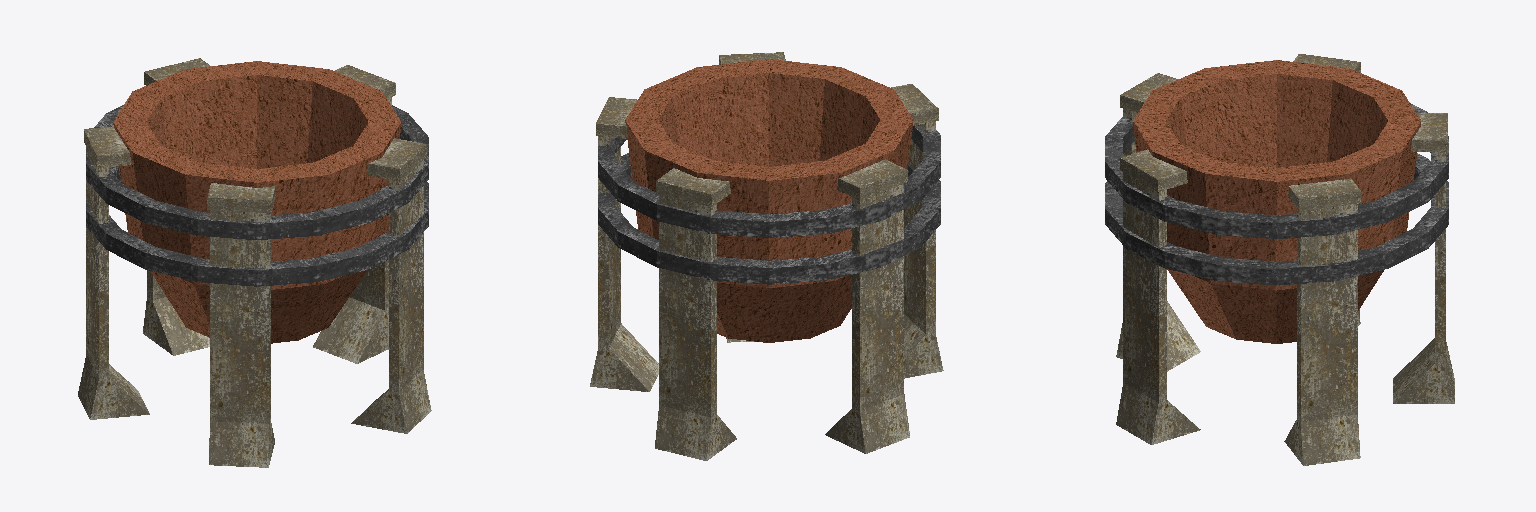
The picture shows the model from 3 angles: view 1: azimuth 30°, elevation 25°; view 2: azimuth 150°, elevation 25°; view 3: azimuth 270°, elevation 25°; orthographic projection.
Parts seen in each view (by area): view 1: legs, jar; view 2: legs, jar; view 3: legs, jar.
Part boxes in pixels (x1,y1,x2,y2): legs: (78, 58, 431, 467); jar: (113, 61, 401, 343); legs: (590, 52, 943, 460); jar: (625, 59, 913, 342); legs: (1105, 54, 1454, 465); jar: (1133, 60, 1420, 343).
Size of the model in its own units: 12.97 by 10.86 by 12.73.
Materials: 3 (3 with a texture image).